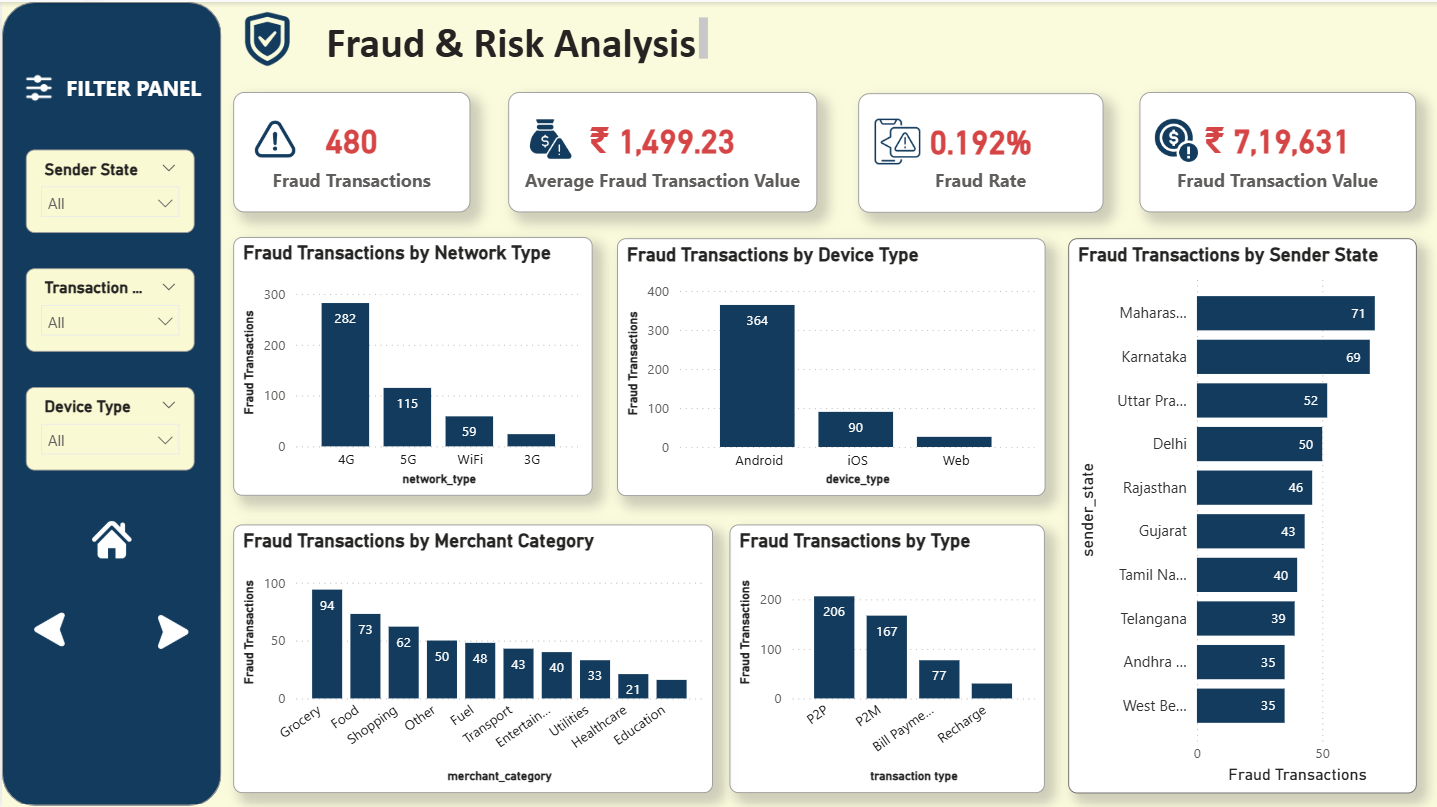

The dashboard page shown, as its layout file describes it:
{"tool":"powerbi","page":{"name":"Fraud & Risk Analysis","canvas":[1280,720],"ordinal":1},"visuals":[{"type":"textbox","box":[283.5,8.4,349.9,50.7],"z":0},{"type":"card","fields":{"Values":["Fact_Transactions.Fraud Transactions"]},"box":[206.3,79.6,211.1,107.4],"z":1000},{"type":"card","fields":{"Values":["Fact_Transactions.Fraud Rate"]},"box":[762.5,80.8,218.4,106.2],"z":2000},{"type":"card","fields":{"Values":["Fact_Transactions.Fraud Transaction Value"]},"box":[1013.4,79.6,246.1,107.4],"z":3000},{"type":"card","fields":{"Values":["Fact_Transactions.Average Fraud Transaction Value"]},"box":[451.2,79.6,275.1,107.4],"z":4000},{"type":"clusteredColumnChart","title":"Fraud Transactions by Type","fields":{"Category":["Fact_Transactions.transaction type"],"Y":["Fact_Transactions.Fraud Transactions"]},"box":[647.9,465.2,281.1,238.9],"z":5000},{"type":"clusteredColumnChart","title":"Fraud Transactions by Merchant Category","fields":{"Y":["Fact_Transactions.Fraud Transactions"],"Category":["Fact_Transactions.merchant_category"]},"box":[206.3,465.2,427.1,238.9],"z":6000},{"type":"clusteredBarChart","title":"Fraud Transactions by Sender State","fields":{"Y":["Fact_Transactions.Fraud Transactions"],"Category":["Fact_Transactions.sender_state"]},"box":[949.5,209.9,310.1,494.6],"z":7000},{"type":"clusteredColumnChart","title":"Fraud Transactions by Device Type","fields":{"Category":["Fact_Transactions.device_type"],"Y":["Fact_Transactions.Fraud Transactions"]},"box":[547.7,209.9,381.5,229.9],"z":8000},{"type":"clusteredColumnChart","title":"Fraud Transactions by Network Type","fields":{"Category":["Fact_Transactions.network_type"],"Y":["Fact_Transactions.Fraud Transactions"]},"box":[206.3,209.4,319.7,230.4],"z":9000},{"type":"shape","box":[0,0,195.4,716.6],"z":10000},{"type":"textbox","box":[51.9,59.1,143.6,36.2],"z":11000},{"type":"image","box":[14.5,56,37.4,41],"z":12000},{"type":"image","box":[74.8,456,45.8,44.6],"z":13000},{"type":"image","box":[132.9,540.5,39.8,39.8],"z":14000},{"type":"image","box":[22,539.3,39.8,39.8],"z":15000},{"type":"slicer","title":"Sender State","fields":{"Values":["Fact_Transactions.sender_state"]},"box":[20.8,131.6,150.4,74.6],"z":16000},{"type":"slicer","title":"Sender State","fields":{"Values":["Fact_Transactions.transaction type"]},"box":[20.8,236.7,150.4,74.6],"z":17000},{"type":"slicer","title":"Sender State","fields":{"Values":["Fact_Transactions.device_type"]},"box":[20.8,343.1,150.4,74.6],"z":18000},{"type":"image","box":[206.3,3.6,60.3,59.1],"z":19000},{"type":"image","box":[220.8,96.5,45.8,50.7],"z":20000},{"type":"image","box":[770.9,98.9,51.9,50.7],"z":21000},{"type":"image","box":[458.4,96.5,60.3,50.7],"z":22000},{"type":"image","box":[1021.9,96.5,48.3,53.1],"z":23000}]}

Visuals, with their boxes in screenshot pixels (x1, y1, x2, y2), scaled from the page's 1280x720 canvas onto the 1437x807 screenshot:
textbox: bbox=[318, 9, 711, 66]
card - Fact_Transactions.Fraud Transactions: bbox=[232, 89, 469, 210]
card - Fact_Transactions.Fraud Rate: bbox=[856, 91, 1101, 210]
card - Fact_Transactions.Fraud Transaction Value: bbox=[1138, 89, 1414, 210]
card - Fact_Transactions.Average Fraud Transaction Value: bbox=[507, 89, 815, 210]
"Fraud Transactions by Type" clusteredColumnChart: bbox=[727, 521, 1043, 789]
"Fraud Transactions by Merchant Category" clusteredColumnChart: bbox=[232, 521, 711, 789]
"Fraud Transactions by Sender State" clusteredBarChart: bbox=[1066, 235, 1414, 790]
"Fraud Transactions by Device Type" clusteredColumnChart: bbox=[615, 235, 1043, 493]
"Fraud Transactions by Network Type" clusteredColumnChart: bbox=[232, 235, 591, 493]
shape: bbox=[0, 0, 219, 803]
textbox: bbox=[58, 66, 219, 107]
image: bbox=[16, 63, 58, 109]
image: bbox=[84, 511, 135, 561]
image: bbox=[149, 606, 194, 650]
image: bbox=[25, 604, 69, 649]
"Sender State" slicer: bbox=[23, 148, 192, 231]
"Sender State" slicer: bbox=[23, 265, 192, 349]
"Sender State" slicer: bbox=[23, 385, 192, 468]
image: bbox=[232, 4, 299, 70]
image: bbox=[248, 108, 299, 165]
image: bbox=[865, 111, 924, 168]
image: bbox=[515, 108, 582, 165]
image: bbox=[1147, 108, 1201, 168]
